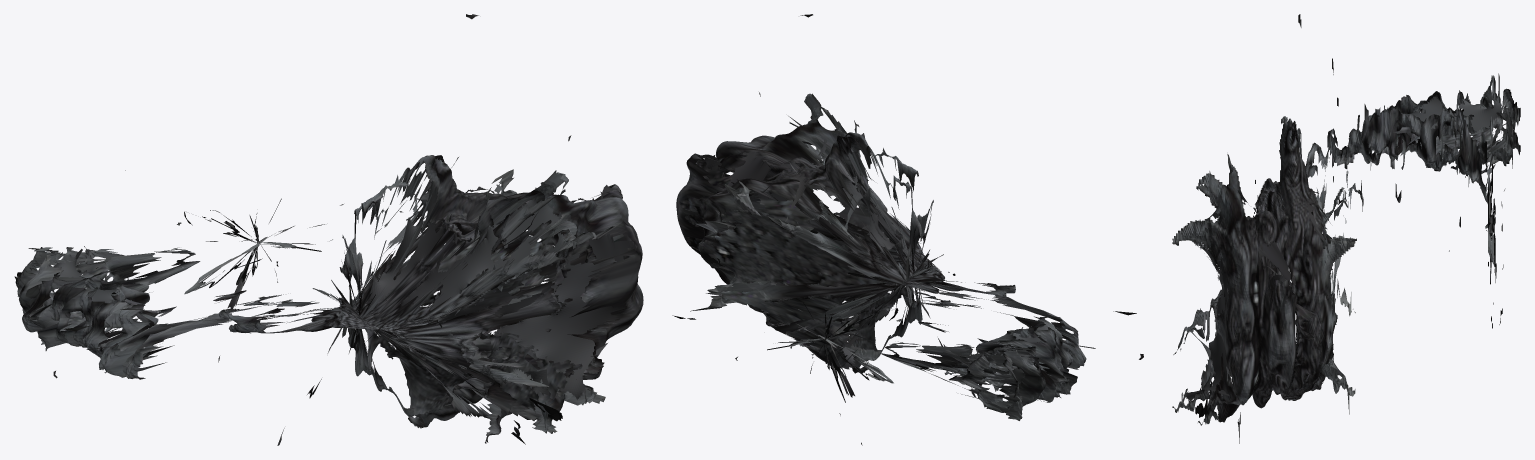
Rendered from detail_mesh.glb.
3 views of the same model, side by side, from view 1: azimuth 30°, elevation 25°; view 2: azimuth 150°, elevation 25°; view 3: azimuth 270°, elevation 25° (orthographic). The views are drawn at different scales.
Visible parts, largest first — view 1: ipn, fill; view 2: ipn, fill; view 3: ipn, fill.
Part boxes in pixels (box(x1,y1,x2,y2)): ipn: box(14, 14, 643, 445); fill: box(17, 180, 636, 429); ipn: box(672, 14, 1143, 445); fill: box(679, 139, 1070, 408); ipn: box(1172, 14, 1520, 443); fill: box(1180, 95, 1515, 414).
Size of the model in its own units: 1.96 by 1.4 by 1.06.
Materials: 2 (1 with a texture image).
